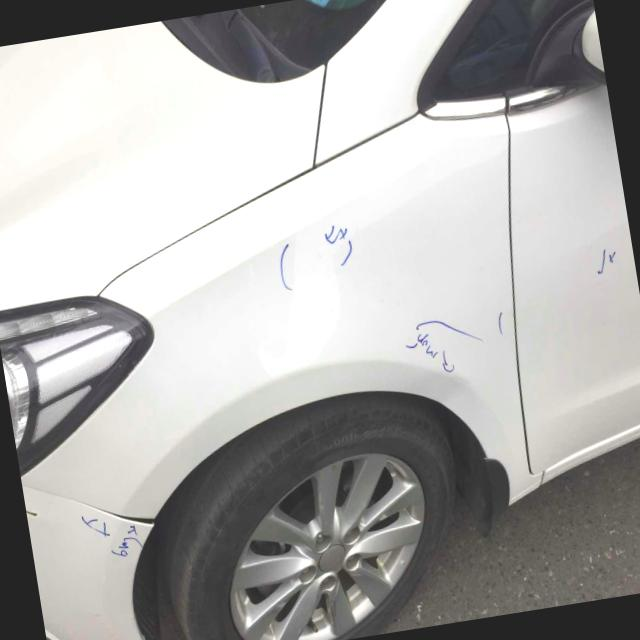Cabossage: (1, 347, 47, 463)
Dechirure: (32, 463, 163, 549)
Rayure: (417, 343, 505, 451)
